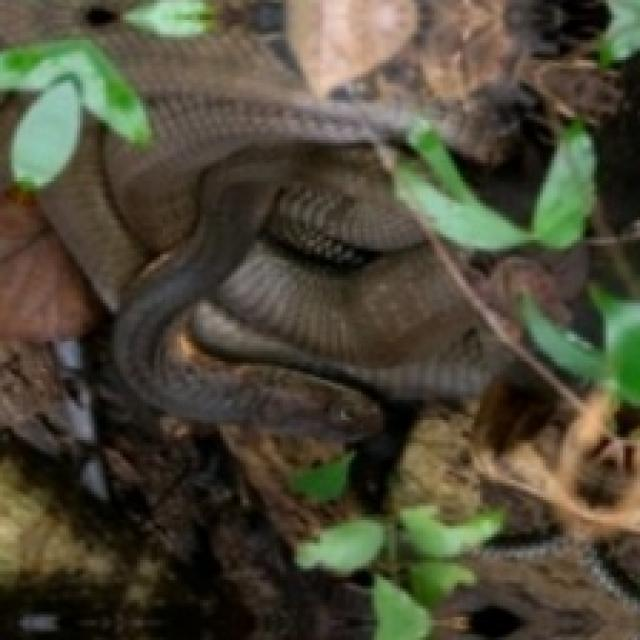king cobra: (0, 0, 614, 451)
